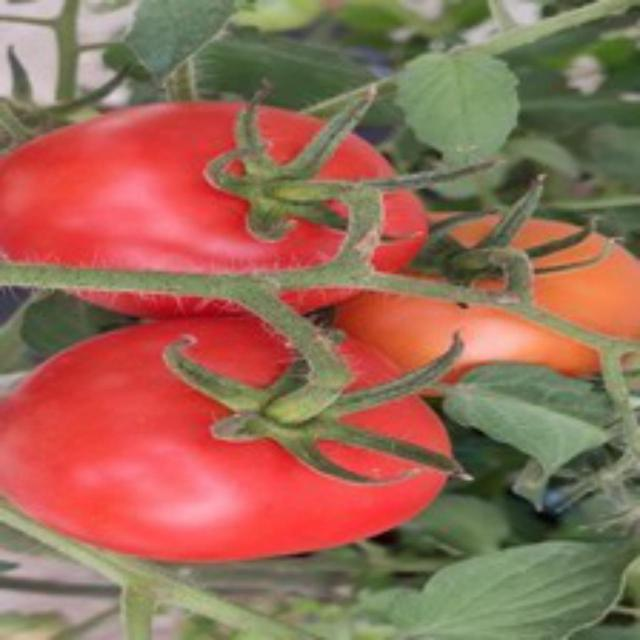tomato: (3, 320, 456, 566), (0, 93, 426, 335)
